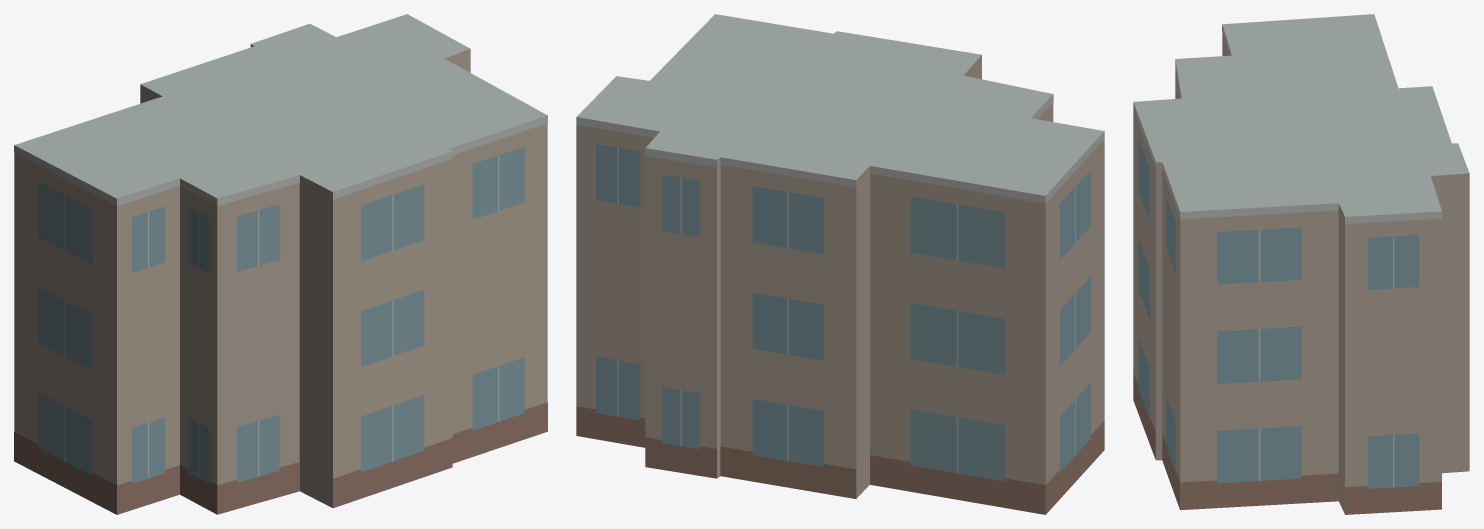
Rendered from survey-upis-32614684.glb.
The picture shows the model from 3 angles, left to right: view 1: azimuth 30°, elevation 25°; view 2: azimuth 150°, elevation 25°; view 3: azimuth 270°, elevation 25°; orthographic projection. The views are drawn at different scales.
Visible parts, largest first — view 1: survey-upis-32614684.tmp; view 2: survey-upis-32614684.tmp; view 3: survey-upis-32614684.tmp.
Boxes of the visible parts, bbox=[...] form: survey-upis-32614684.tmp: bbox=[14, 14, 547, 514]; survey-upis-32614684.tmp: bbox=[576, 14, 1104, 514]; survey-upis-32614684.tmp: bbox=[1133, 14, 1469, 514].
Size of the model in its own units: 14.76 by 10.1 by 10.34.
